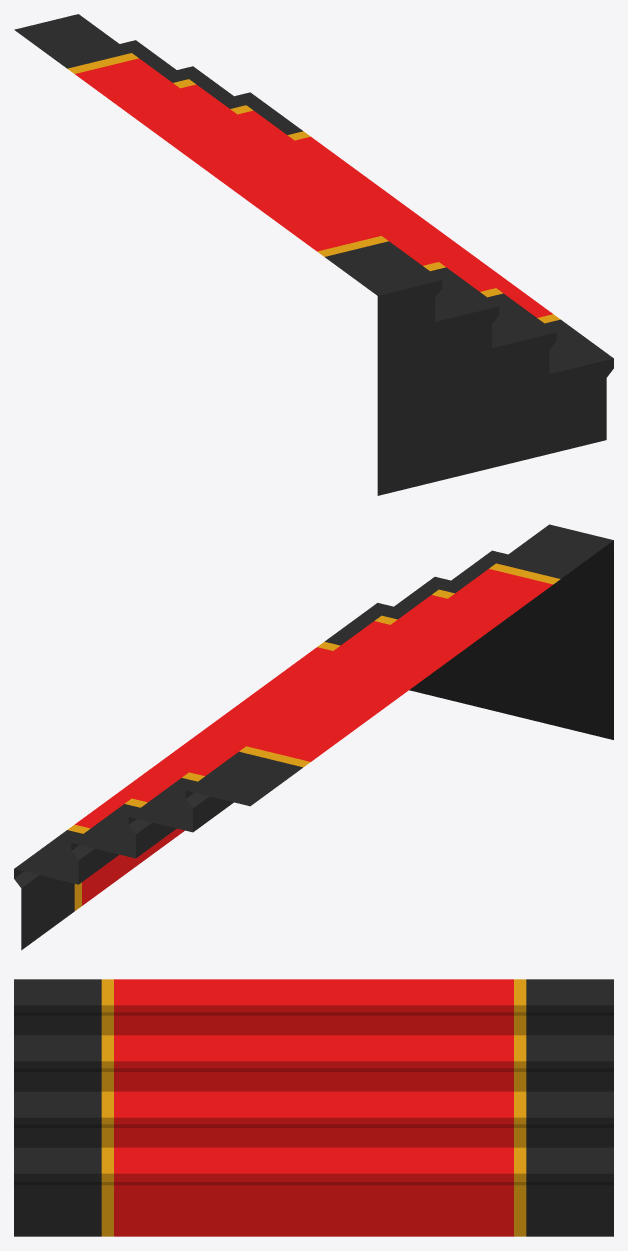
File: stairs.FBX
The picture shows the model from 3 angles, top to bottom: view 1: azimuth 30°, elevation 25°; view 2: azimuth 150°, elevation 25°; view 3: azimuth 270°, elevation 25°; orthographic projection. The views are drawn at different scales.
Parts seen in each view (by area): view 1: Box008; view 2: Box008; view 3: Box008.
Boxes of the visible parts, x1,y1,x2,y2 form: Box008: (14,14,613,495); Box008: (14,524,613,950); Box008: (14,979,613,1236).
Size of the model in its own units: 334 by 891 by 270.
